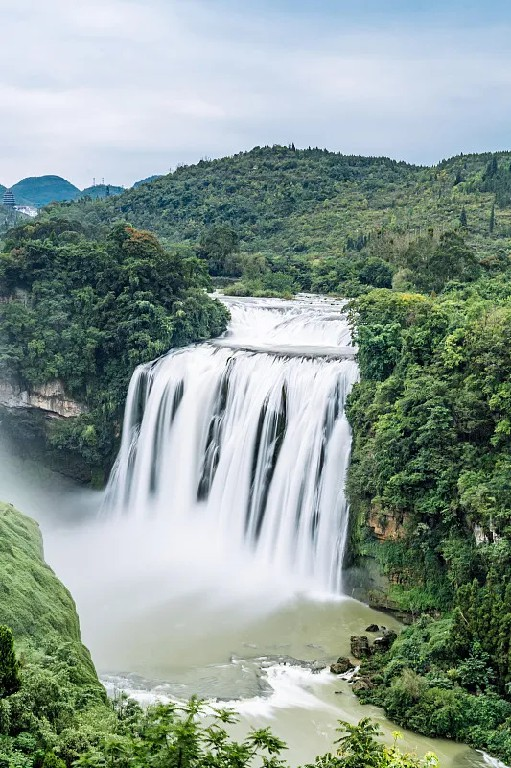Huangguoshu: (102, 299, 362, 598)
